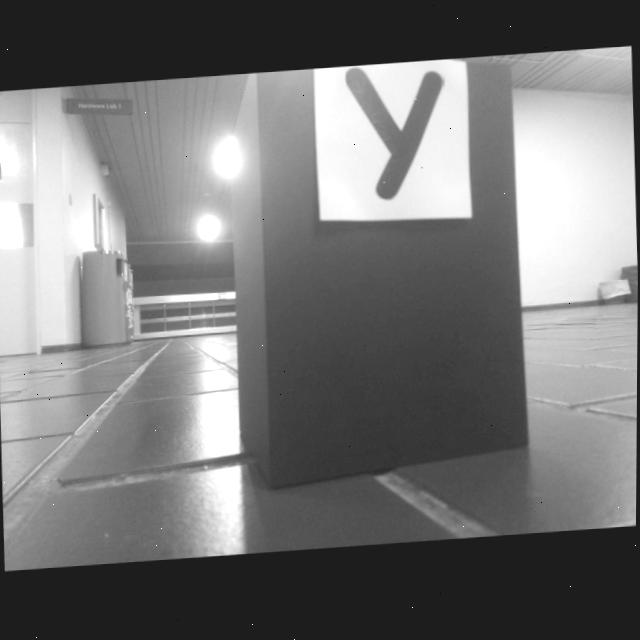Y: (346, 71, 443, 201)
